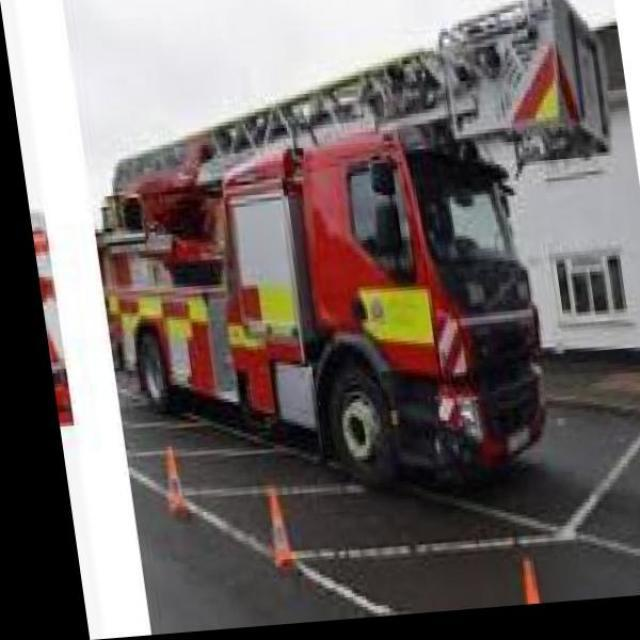emergency: (94, 122, 552, 492)
